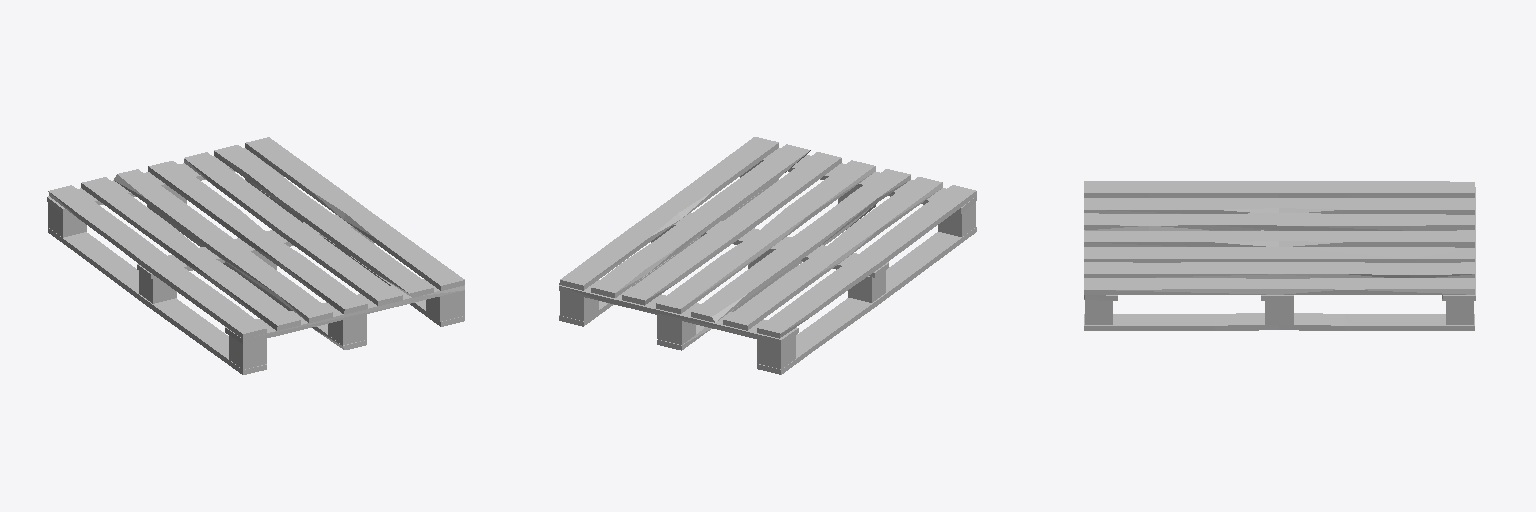
The model's file is uploads_files_2535670_pallet.obj.
The picture shows the model from 3 angles: view 1: azimuth 30°, elevation 25°; view 2: azimuth 150°, elevation 25°; view 3: azimuth 270°, elevation 25°; orthographic projection.
Visible parts, largest first — view 1: Pallet_Cube.008; view 2: Pallet_Cube.008; view 3: Pallet_Cube.008.
Boxes of the visible parts, <box> form: Pallet_Cube.008: <box>47,137,464,374</box>; Pallet_Cube.008: <box>559,137,976,374</box>; Pallet_Cube.008: <box>1084,181,1475,330</box>.
Bounding box in the file's own units: 3.33 × 0.5839 × 4.99.